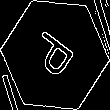P_SE: (27, 25, 83, 85)
